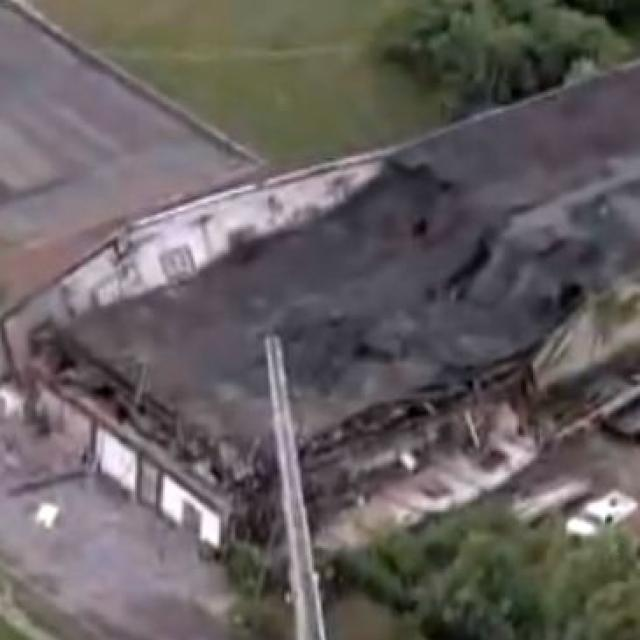collapsed_building: (19, 160, 602, 555)
